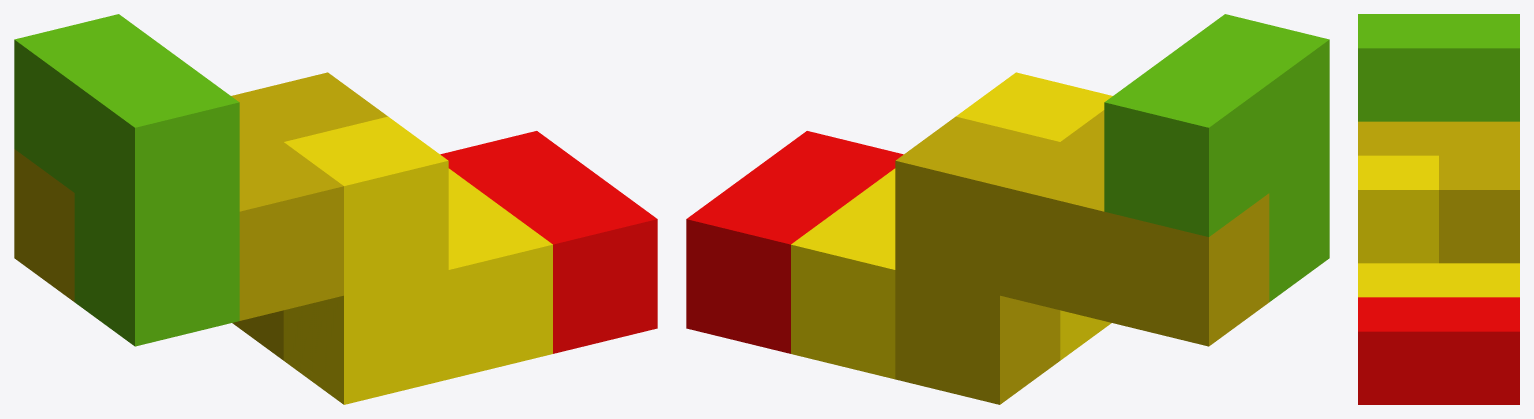
3 views of the same model, side by side, from view 1: azimuth 30°, elevation 25°; view 2: azimuth 150°, elevation 25°; view 3: azimuth 270°, elevation 25° (orthographic). The views are drawn at different scales.
Visible parts, largest first — view 1: mergedBlocks(Clone); view 2: mergedBlocks(Clone); view 3: mergedBlocks(Clone).
Boxes of the visible parts, x1,y1,x2,y2 form: mergedBlocks(Clone): (14,14,657,404); mergedBlocks(Clone): (686,14,1329,404); mergedBlocks(Clone): (1358,14,1519,404).
Bounding box in the file's own units: 5 × 3 × 2.
4 materials, 4 textured.
